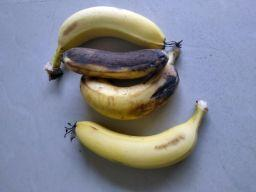banana: (63, 98, 209, 170), (45, 6, 166, 83), (81, 39, 184, 121), (61, 37, 181, 80)
